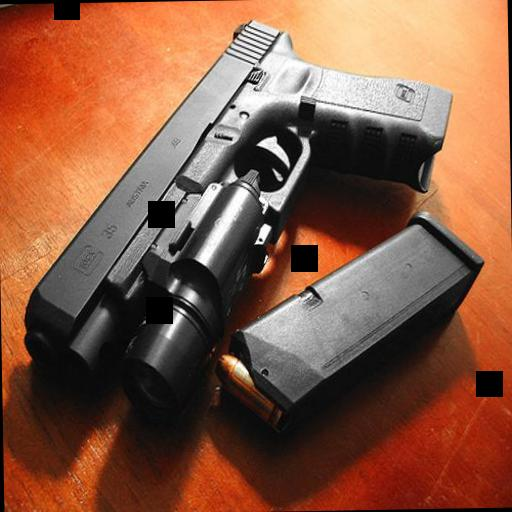Handgun: (19, 13, 456, 427)
